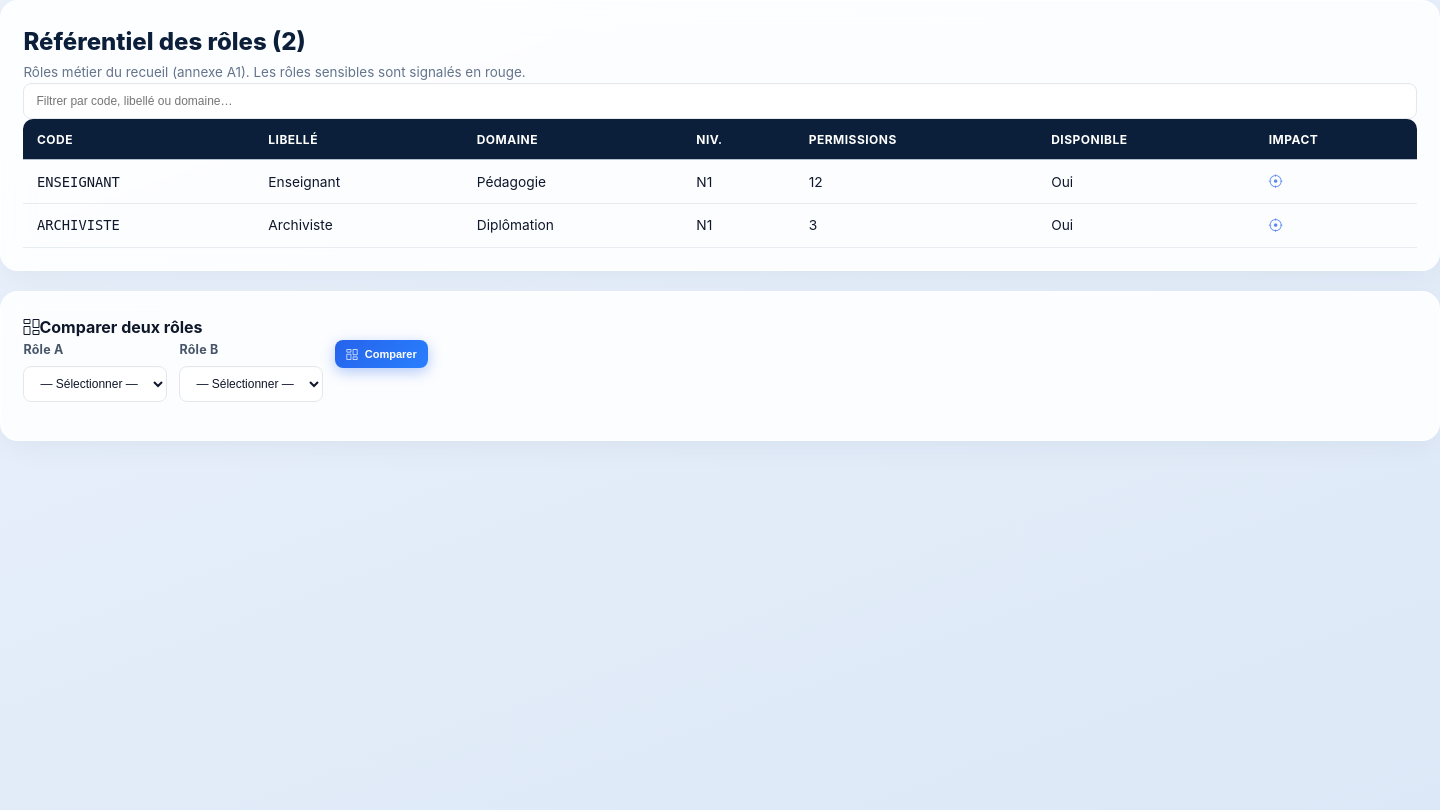
Test case: GestionRoles — référentiel dérivé de l'API › filtre les rôles et ouvre la fiche avec les titulaires
Expected: the element with test id "ecran-roles" is shown, [0,0,1439,441]
Step 1. Type "archiv" into the field with test id "filtre-roles" → (720, 101), box [23,83,1417,119]
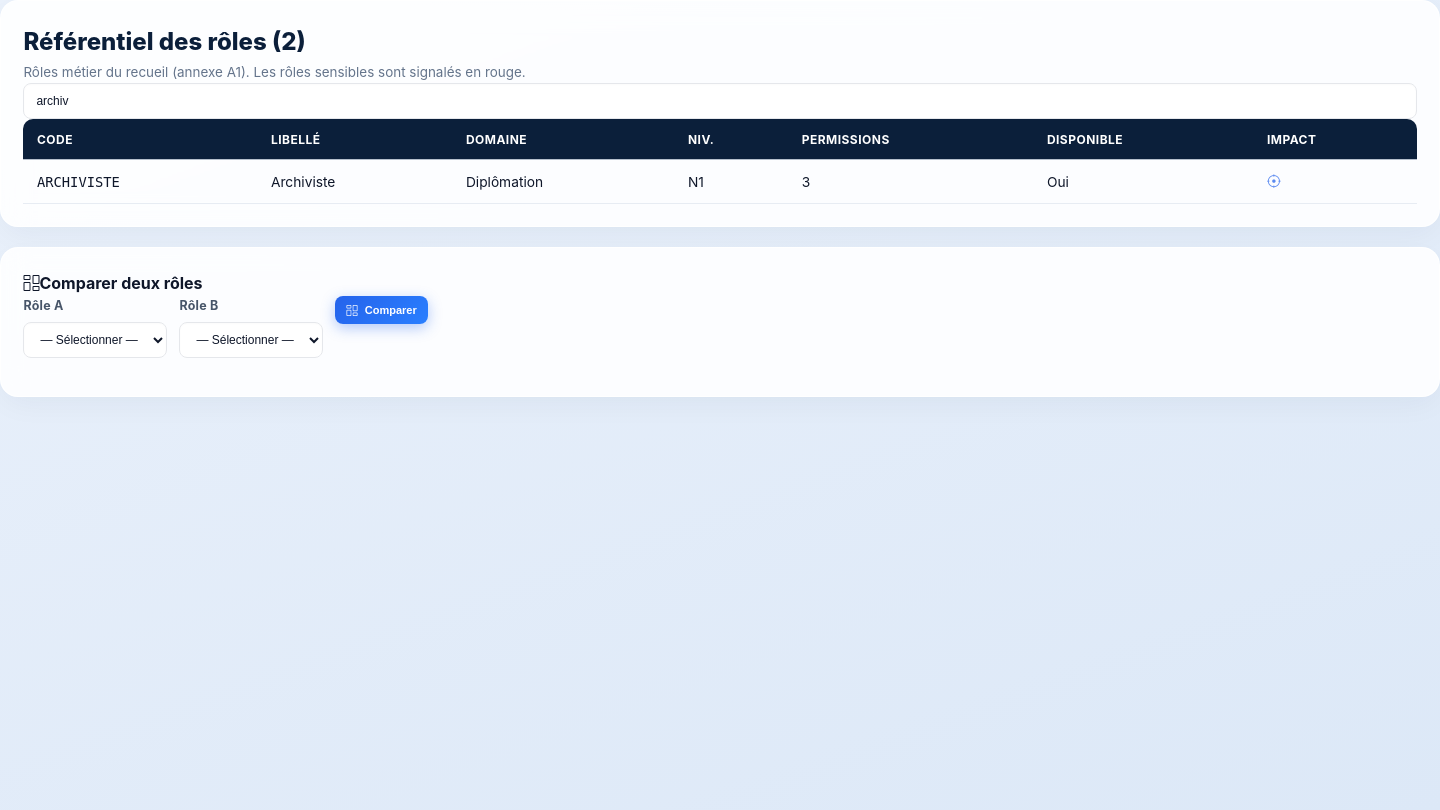
Now the row with test id "ligne-role-ENSEIGNANT" is gone
Step 2. Clear the field with test id "filtre-roles" → (720, 101), box [23,83,1417,119]
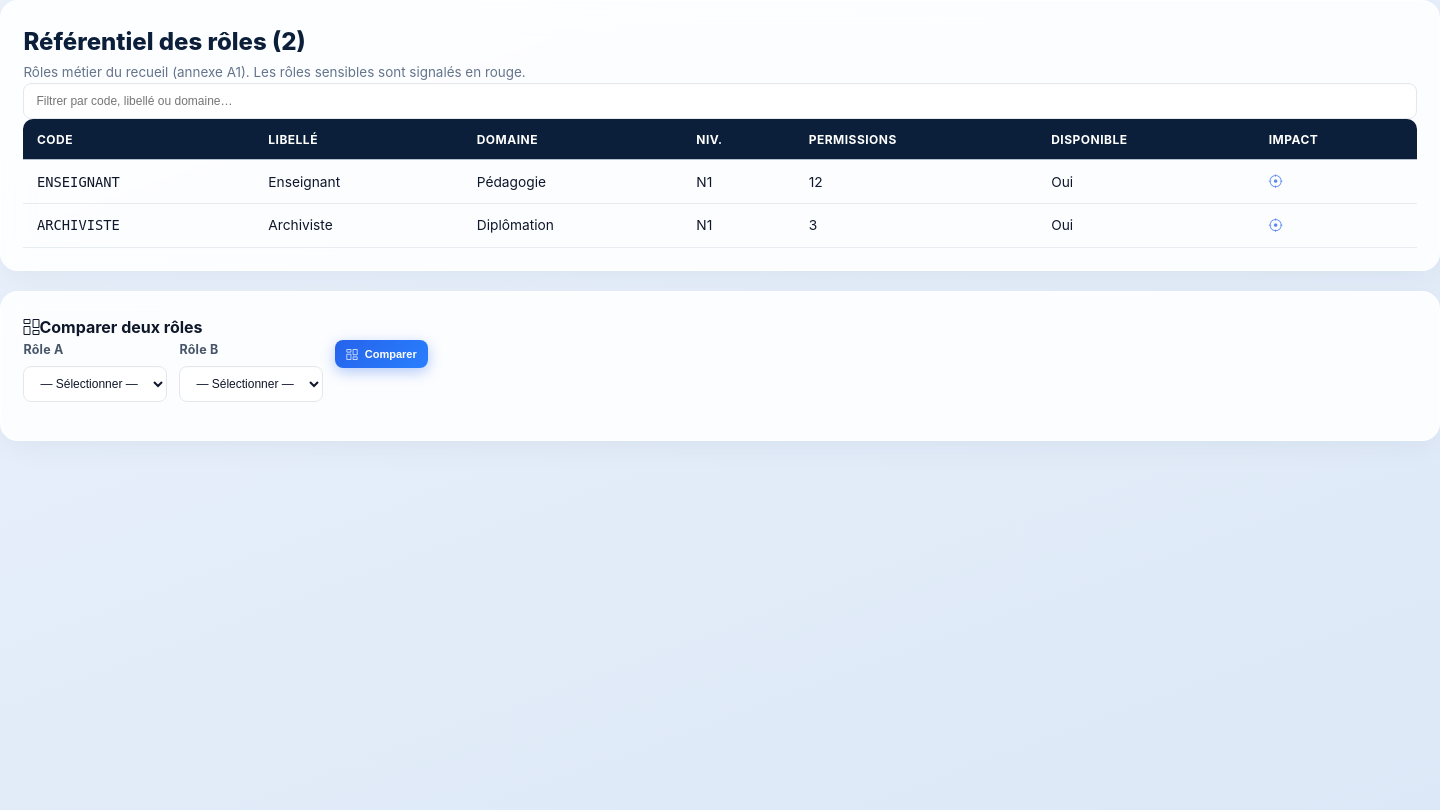
Step 3. Click the row with test id "ligne-role-ARCHIVISTE" → (720, 226), box [23,204,1417,248]
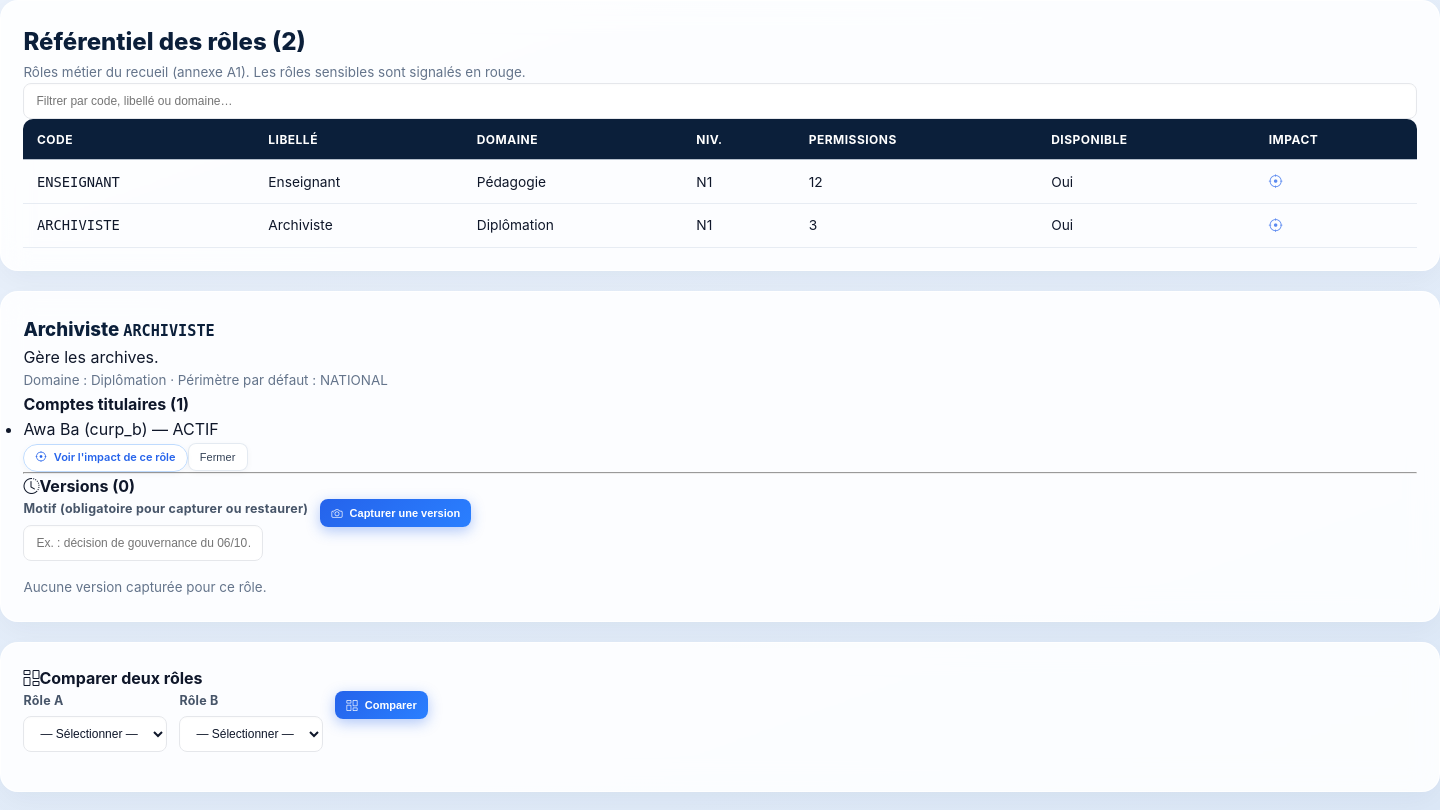
Now the element with test id "detail-role" shows "curp_b", box [90,419,142,439]
